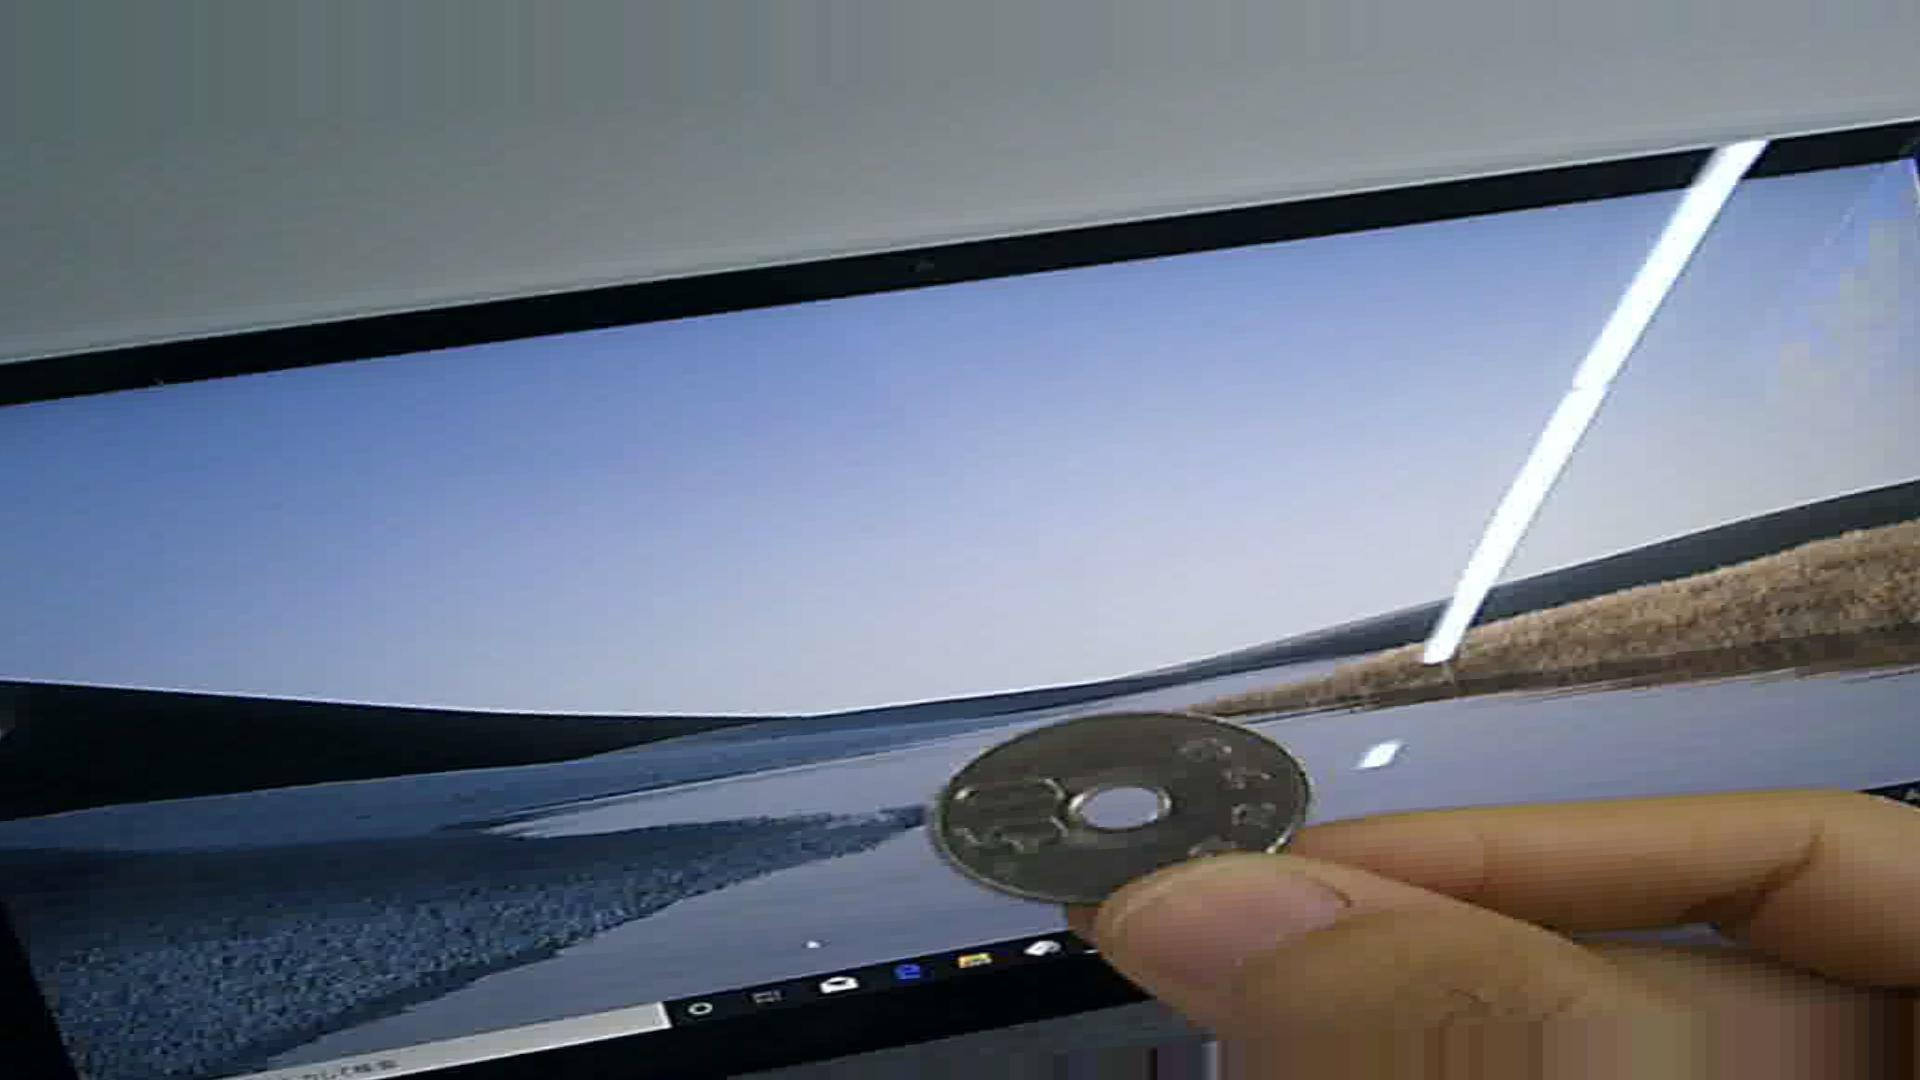50 Yen: (931, 707, 1307, 920)
